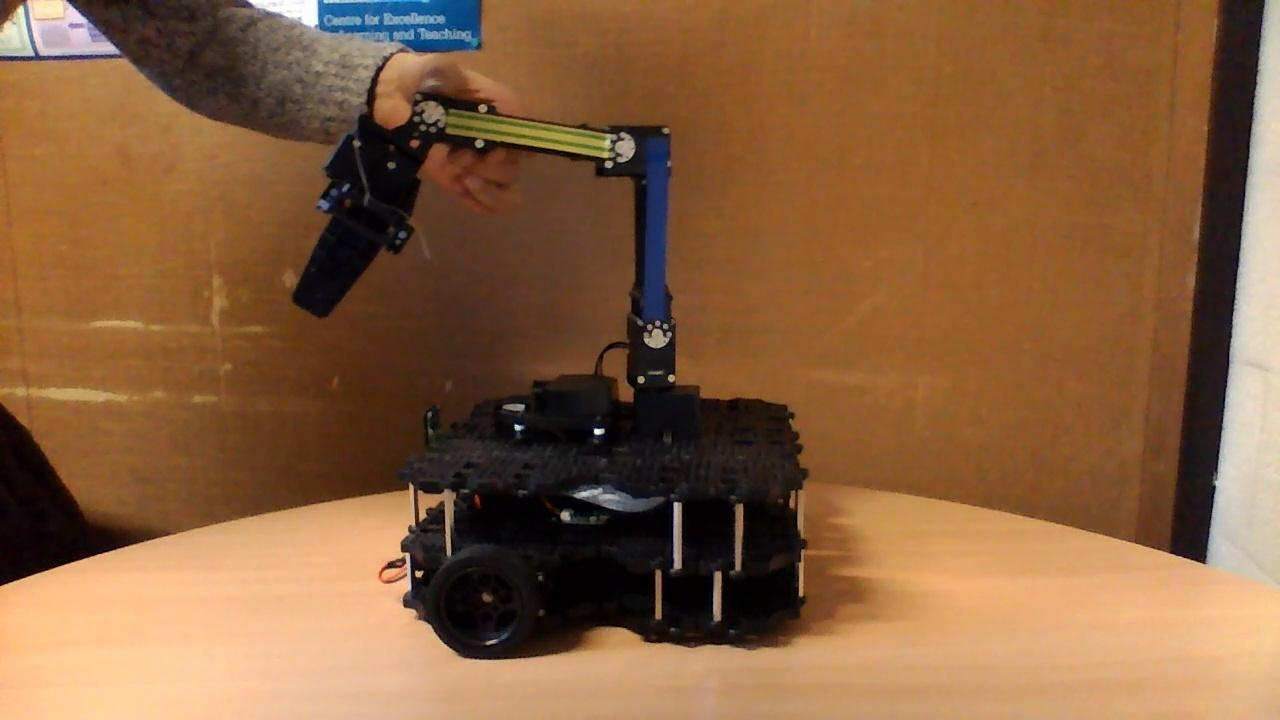Arm: (601, 113, 679, 351)
Hand: (285, 89, 452, 322)
Wrist: (403, 87, 640, 177)
base: (374, 372, 812, 665)
